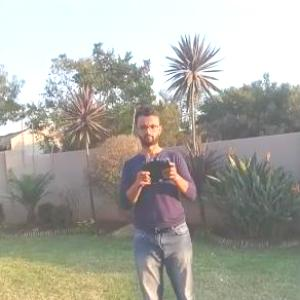follow: (112, 99, 204, 299)
